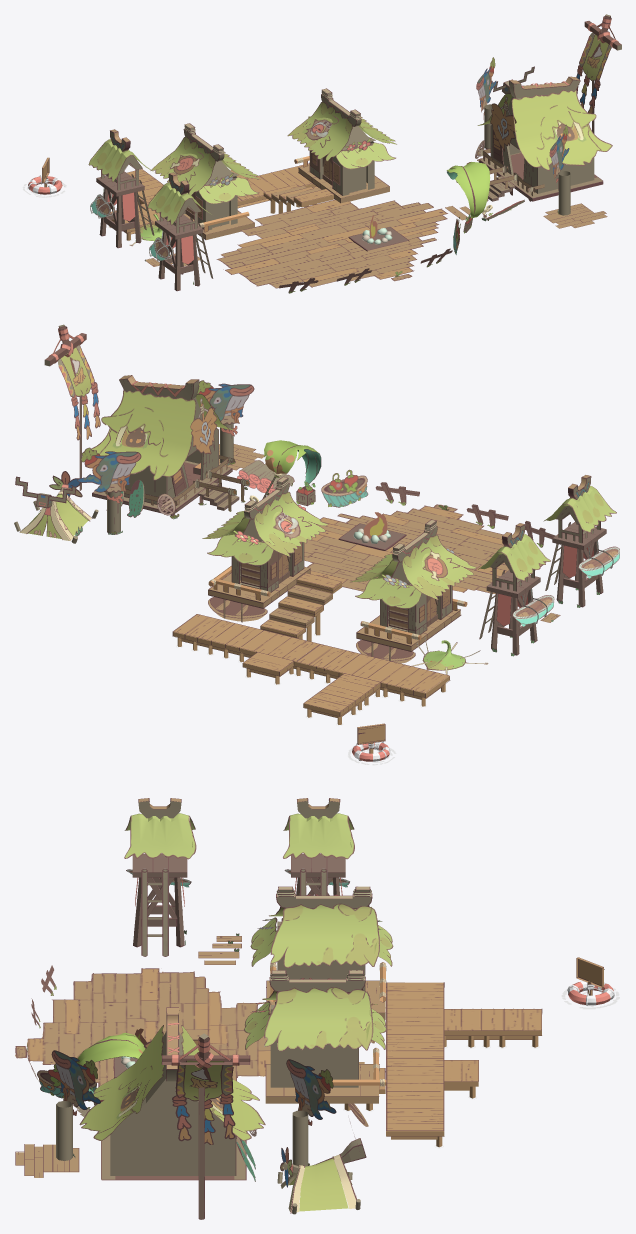
File: Mesh_Home_RF_Port_SM.fbx
The picture shows the model from 3 angles, top to bottom: view 1: azimuth 30°, elevation 25°; view 2: azimuth 150°, elevation 25°; view 3: azimuth 270°, elevation 25°; orthographic projection. The views are drawn at different scales.
Parts seen in each view (by area): view 1: Mesh_Home_RF_Port_01_P, Mesh_Home_RF_Port_02_P, Mesh_Home_RF_Port; view 2: Mesh_Home_RF_Port_01_P, Mesh_Home_RF_Port_02_P, Mesh_Home_RF_Port; view 3: Mesh_Home_RF_Port_01_P, Mesh_Home_RF_Port, Mesh_Home_RF_Port_02_P.
Part boxes in pixels (x1,y1,x2,y2): Mesh_Home_RF_Port_01_P: (22, 32, 612, 284); Mesh_Home_RF_Port_02_P: (90, 16, 618, 293); Mesh_Home_RF_Port: (28, 14, 621, 291); Mesh_Home_RF_Port_01_P: (20, 345, 616, 765); Mesh_Home_RF_Port_02_P: (48, 326, 619, 711); Mesh_Home_RF_Port: (14, 324, 606, 761); Mesh_Home_RF_Port_01_P: (15, 798, 619, 1213); Mesh_Home_RF_Port: (56, 798, 614, 1214); Mesh_Home_RF_Port_02_P: (15, 856, 541, 1219).
Size of the model in its own units: 1840 by 653 by 1492.
2 materials, 2 textured.
